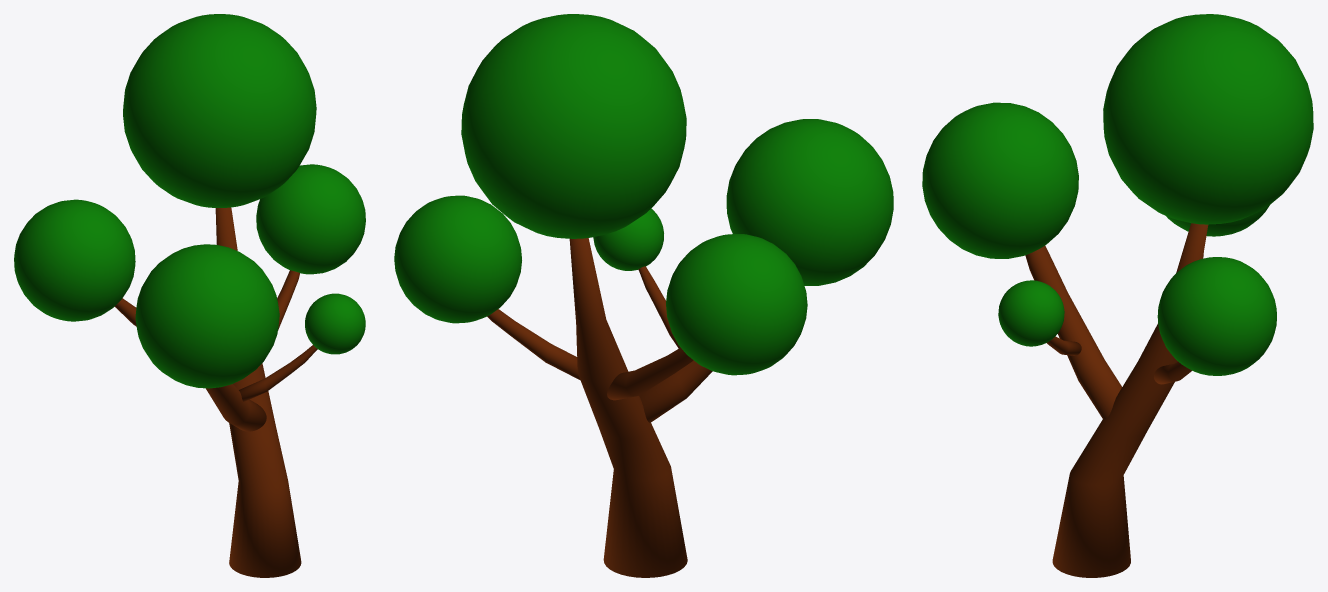
Rendered from Tree_Cartoon3.fbx.
The picture shows the model from 3 angles, left to right: view 1: azimuth 30°, elevation 25°; view 2: azimuth 150°, elevation 25°; view 3: azimuth 270°, elevation 25°; orthographic projection. The views are drawn at different scales.
Visible parts, largest first — view 1: Sphere.002, Sphere.005, Sphere.001, Cylinder.005, Sphere.004, Sphere.003, Cylinder.006, Cylinder.007, Cylinder.008; view 2: Sphere.002, Sphere.005, Cylinder.005, Sphere.001, Sphere.004, Sphere.003, Cylinder.006, Cylinder.009, Cylinder.008, Cylinder.007; view 3: Sphere.002, Sphere.005, Cylinder.005, Sphere.004, Cylinder.006, Sphere.003, Sphere.001, Cylinder.008.
Boxes of the visible parts, left/top/right/bottom form: Sphere.002: left=123, top=14, right=316, bottom=207; Sphere.005: left=135, top=244, right=279, bottom=388; Sphere.001: left=14, top=199, right=135, bottom=321; Cylinder.005: left=215, top=207, right=301, bottom=577; Sphere.004: left=256, top=164, right=365, bottom=274; Sphere.003: left=305, top=293, right=365, bottom=354; Cylinder.006: left=206, top=384, right=266, bottom=431; Cylinder.007: left=239, top=345, right=317, bottom=401; Cylinder.008: left=277, top=270, right=299, bottom=330; Sphere.002: left=461, top=14, right=686, bottom=238; Sphere.005: left=726, top=119, right=893, bottom=285; Cylinder.005: left=569, top=238, right=687, bottom=577; Sphere.001: left=666, top=234, right=807, bottom=375; Sphere.004: left=394, top=195, right=521, bottom=323; Sphere.003: left=593, top=208, right=663, bottom=270; Cylinder.006: left=639, top=360, right=712, bottom=422; Cylinder.009: left=607, top=347, right=693, bottom=400; Cylinder.008: left=487, top=309, right=580, bottom=379; Cylinder.007: left=638, top=266, right=680, bottom=348; Sphere.002: left=1103, top=14, right=1313, bottom=224; Sphere.005: left=922, top=102, right=1078, bottom=258; Cylinder.005: left=1052, top=223, right=1208, bottom=577; Sphere.004: left=1157, top=257, right=1276, bottom=375; Cylinder.006: left=1025, top=246, right=1121, bottom=419; Sphere.003: left=998, top=280, right=1064, bottom=346; Sphere.001: left=1166, top=205, right=1269, bottom=236; Cylinder.008: left=1154, top=361, right=1191, bottom=384.
Bounding box in the file's own units: 380 × 535 × 350.
